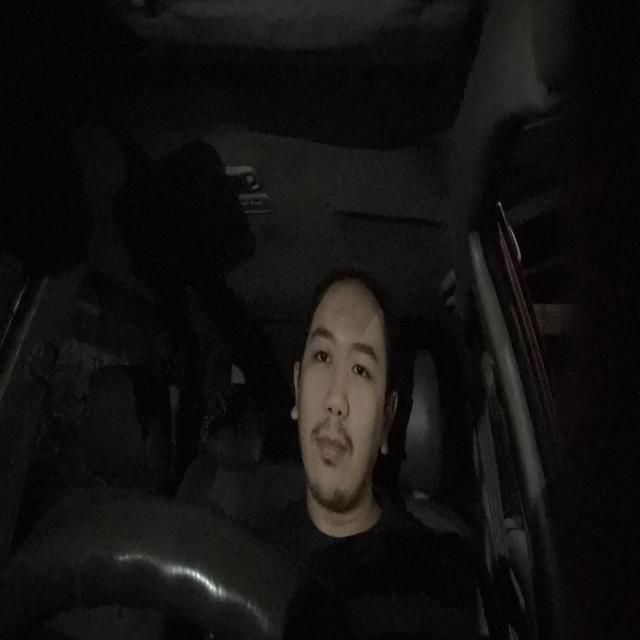open: (350, 340, 377, 393), (309, 325, 339, 370)
